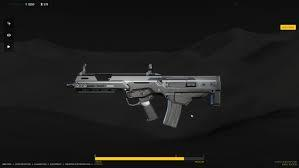rifle: (65, 63, 230, 131)
